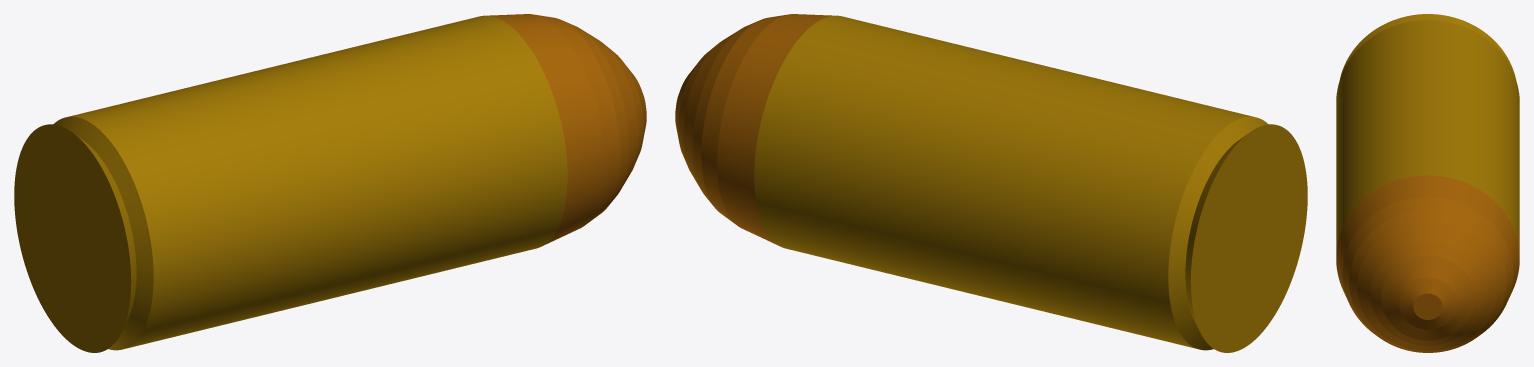
The model's file is Bullet.fbx.
3 renders of one model, left to right at view 1: azimuth 30°, elevation 25°; view 2: azimuth 150°, elevation 25°; view 3: azimuth 270°, elevation 25°, orthographic. The views are drawn at different scales.
Visible parts, largest first — view 1: Cylinder, Cylinder.001; view 2: Cylinder, Cylinder.001; view 3: Cylinder, Cylinder.001.
Part boxes in pixels (left/top/right/bottom): Cylinder: left=14, top=15, right=567, bottom=352; Cylinder.001: left=488, top=14, right=646, bottom=245; Cylinder: left=754, top=15, right=1307, bottom=352; Cylinder.001: left=675, top=14, right=833, bottom=245; Cylinder: left=1336, top=14, right=1519, bottom=251; Cylinder.001: left=1336, top=175, right=1519, bottom=352.
Size of the model in its own units: 272 by 100 by 100.
